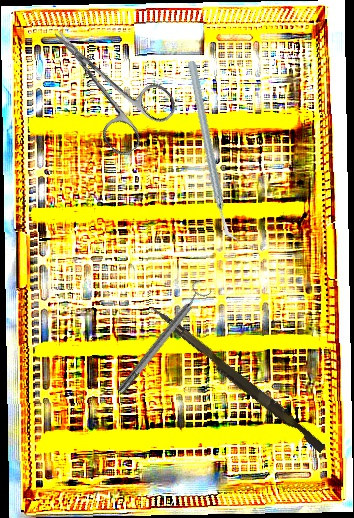Chopper: (152, 60, 274, 243)
Fixation Ring: (110, 277, 215, 399)
Iris Scissors: (29, 3, 182, 161)
Pusher: (146, 305, 330, 454)
